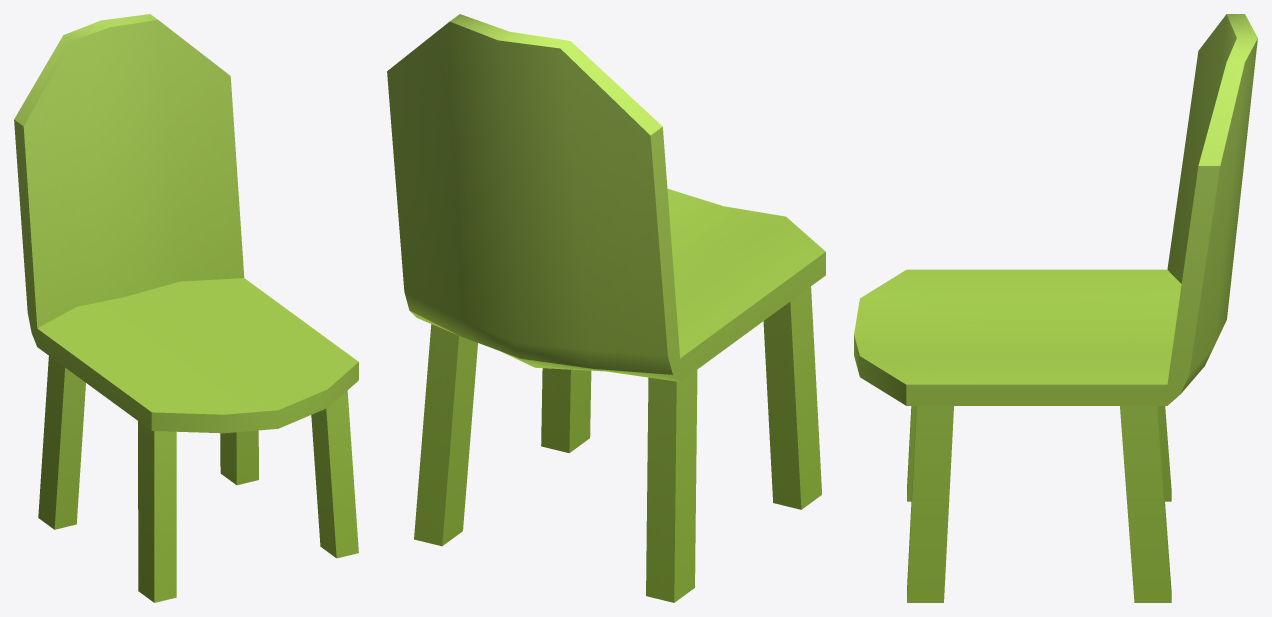
Rendered from Prop_Chair03.fbx.
The picture shows the model from 3 angles, left to right: view 1: azimuth 30°, elevation 25°; view 2: azimuth 150°, elevation 25°; view 3: azimuth 270°, elevation 25°; orthographic projection. The views are drawn at different scales.
Parts seen in each view (by area): view 1: prop_chair03; view 2: prop_chair03; view 3: prop_chair03.
Part boxes in pixels (x1,y1,x2,y2): prop_chair03: (14, 14, 358, 602); prop_chair03: (387, 14, 825, 602); prop_chair03: (854, 14, 1257, 602).
Bounding box in the file's own units: 180 × 370 × 267.
